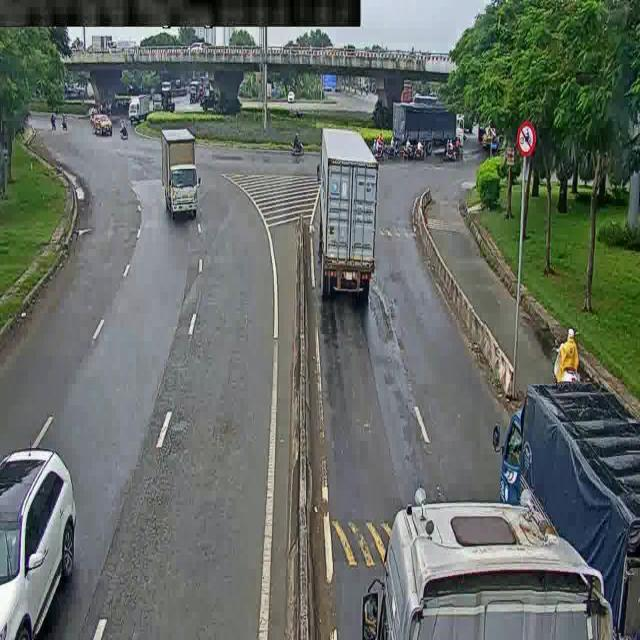car: (1, 436, 100, 638), (87, 112, 114, 137)
motorbike: (538, 320, 586, 398), (46, 110, 60, 141), (403, 132, 416, 163), (444, 139, 457, 170), (414, 140, 431, 163), (451, 139, 468, 159), (375, 132, 387, 160), (57, 110, 71, 130), (293, 132, 305, 155), (388, 135, 398, 158), (120, 122, 130, 144)
truck: (346, 486, 633, 640), (490, 380, 640, 640), (305, 120, 385, 304), (156, 124, 205, 224), (395, 90, 469, 147), (124, 90, 152, 126), (149, 87, 175, 117), (184, 78, 201, 99)
